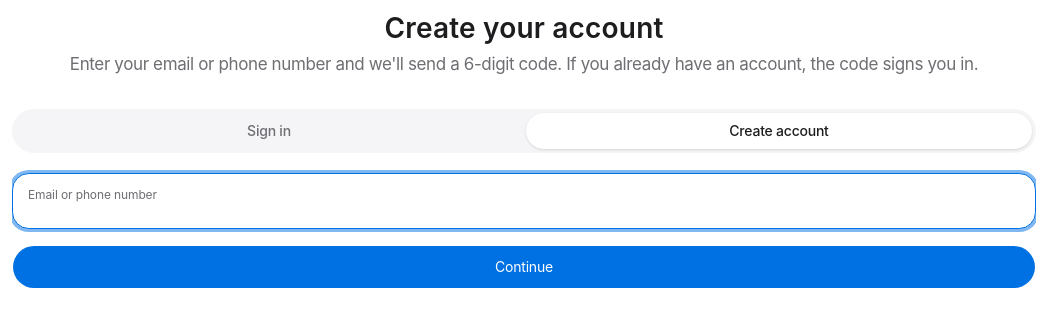
Test: SignInFlow: signing up › sends an email a code straight away instead of asking for a password
Type "New@Example.com" into the field labelled "Email or phone number" at (524, 201), box [12,173,1036,229]
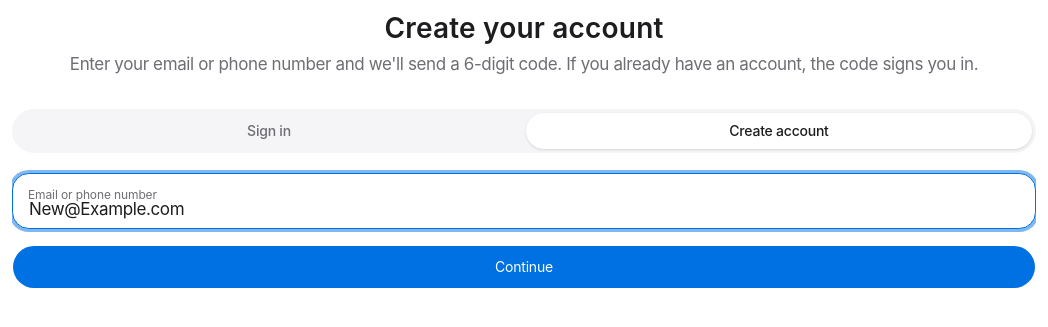
Click the button "Continue" at (524, 267), box [12,245,1036,289]
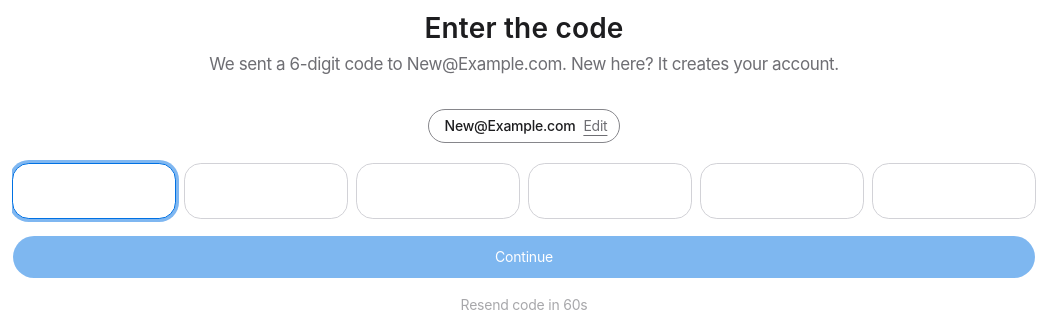
Result: the heading "Enter the code" is shown at [424,11,624,45]
